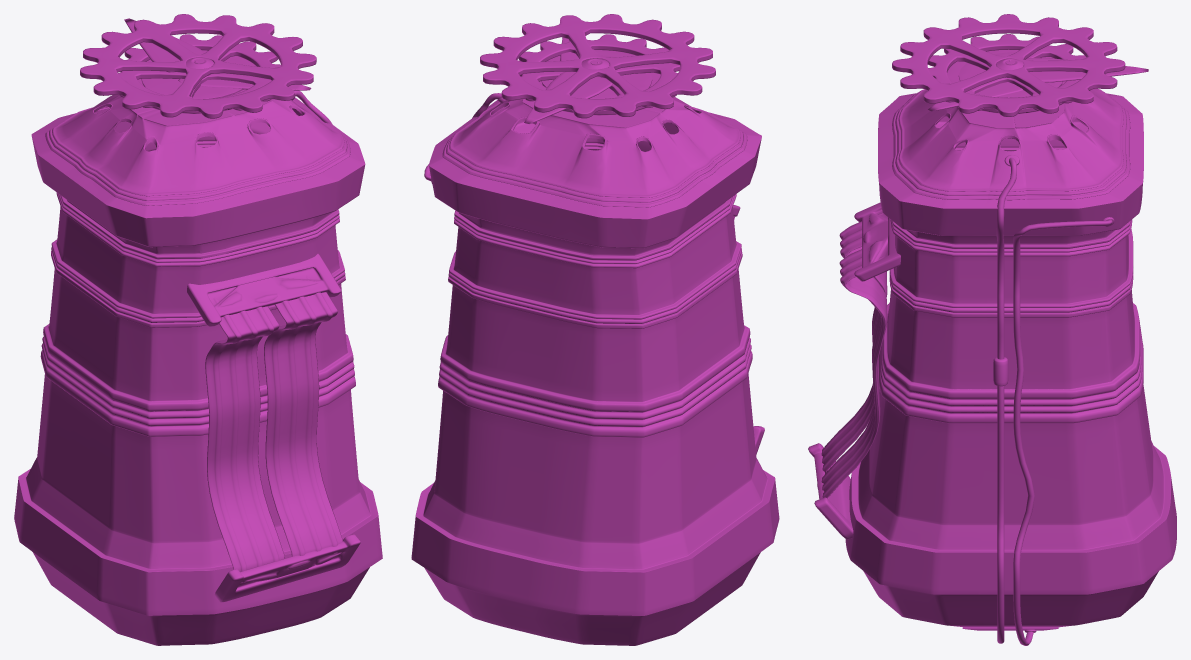
Rendered from M_GrenadeLauncher_Grenade_UV.fbx.
3 renders of one model, left to right at view 1: azimuth 30°, elevation 25°; view 2: azimuth 150°, elevation 25°; view 3: azimuth 270°, elevation 25°, orthographic. The views are drawn at different scales.
Parts seen in each view (by area): view 1: Kiyan_GrenadeLauncher_Grenade; view 2: Kiyan_GrenadeLauncher_Grenade; view 3: Kiyan_GrenadeLauncher_Grenade.
Boxes of the visible parts, bbox=[...] form: Kiyan_GrenadeLauncher_Grenade: bbox=[14, 14, 382, 645]; Kiyan_GrenadeLauncher_Grenade: bbox=[411, 14, 779, 645]; Kiyan_GrenadeLauncher_Grenade: bbox=[808, 14, 1176, 645].
Bounding box in the file's own units: 3.94 × 7.21 × 4.52.
